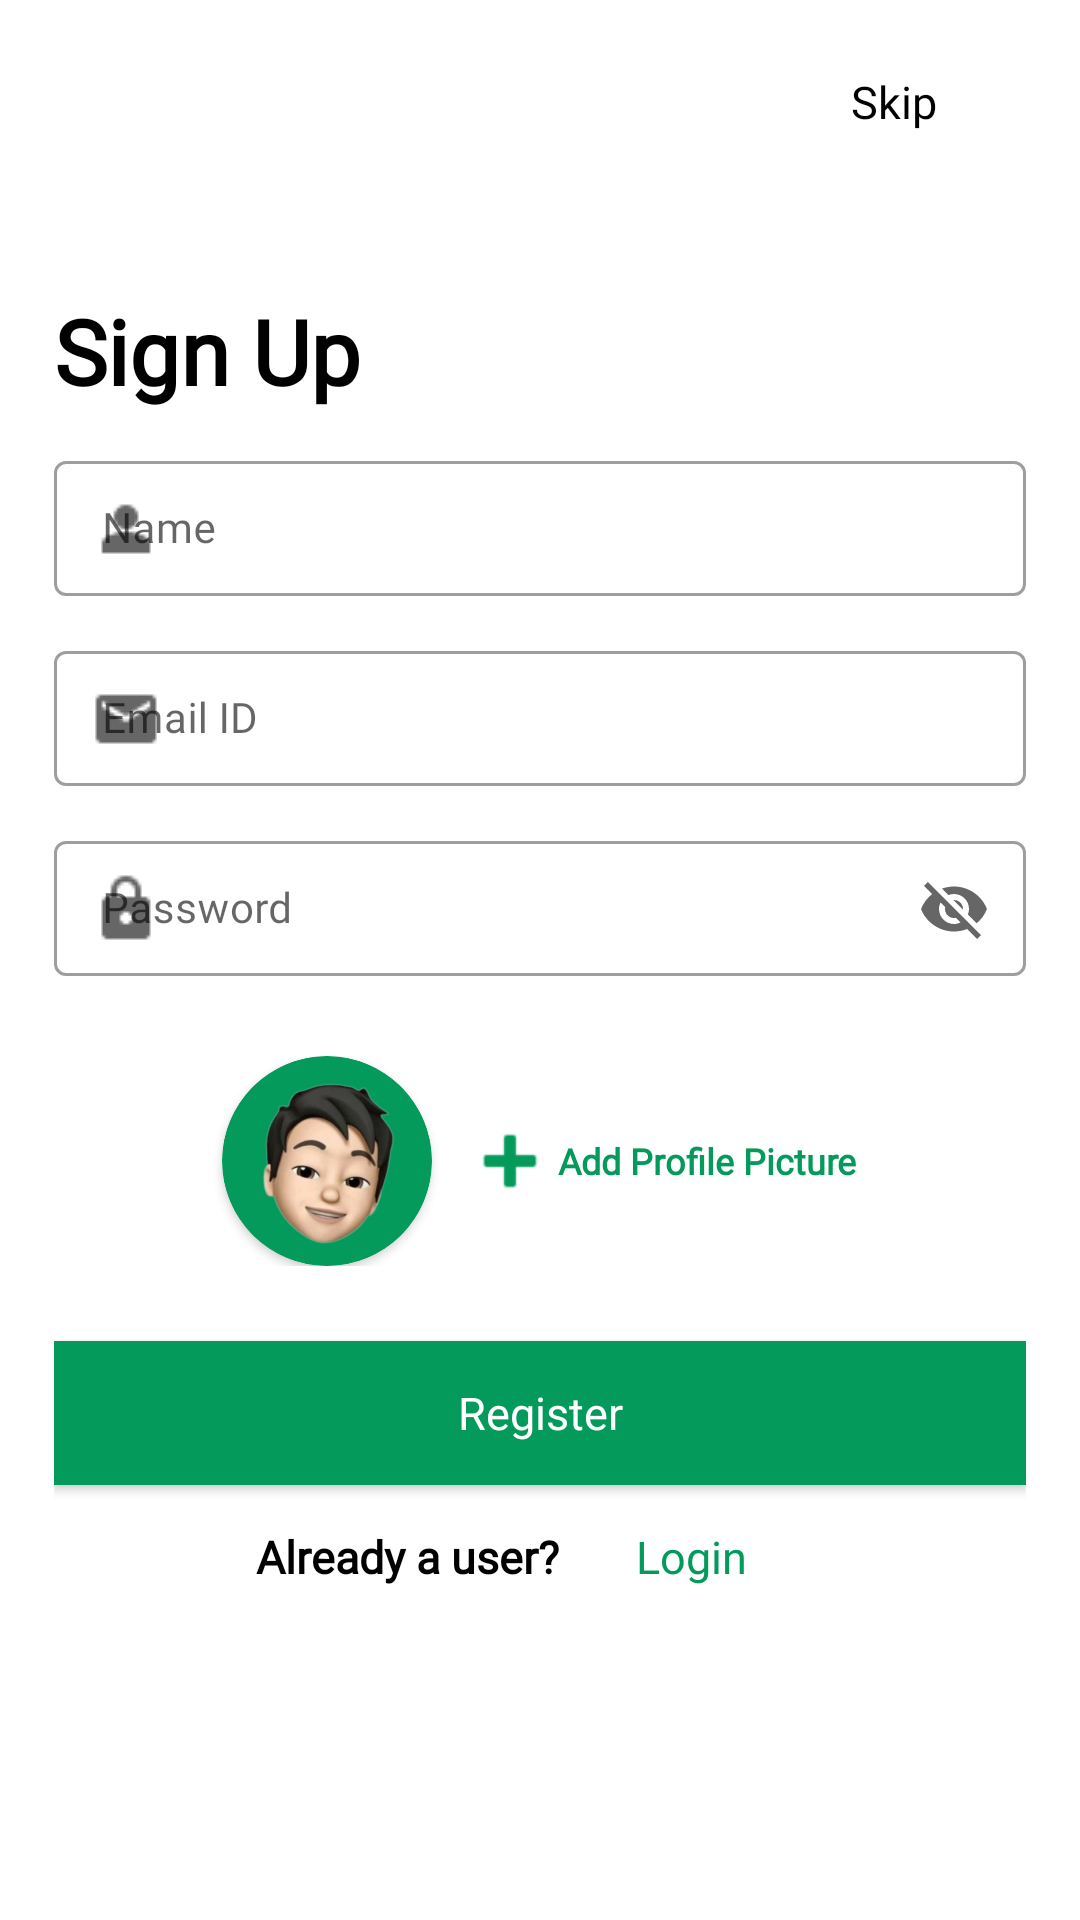

Icon bounding boxes for this 1080w x 1920h phone screenshot, format (x1, y1, x2, y2):
user moji: (222, 1056, 432, 1266)
